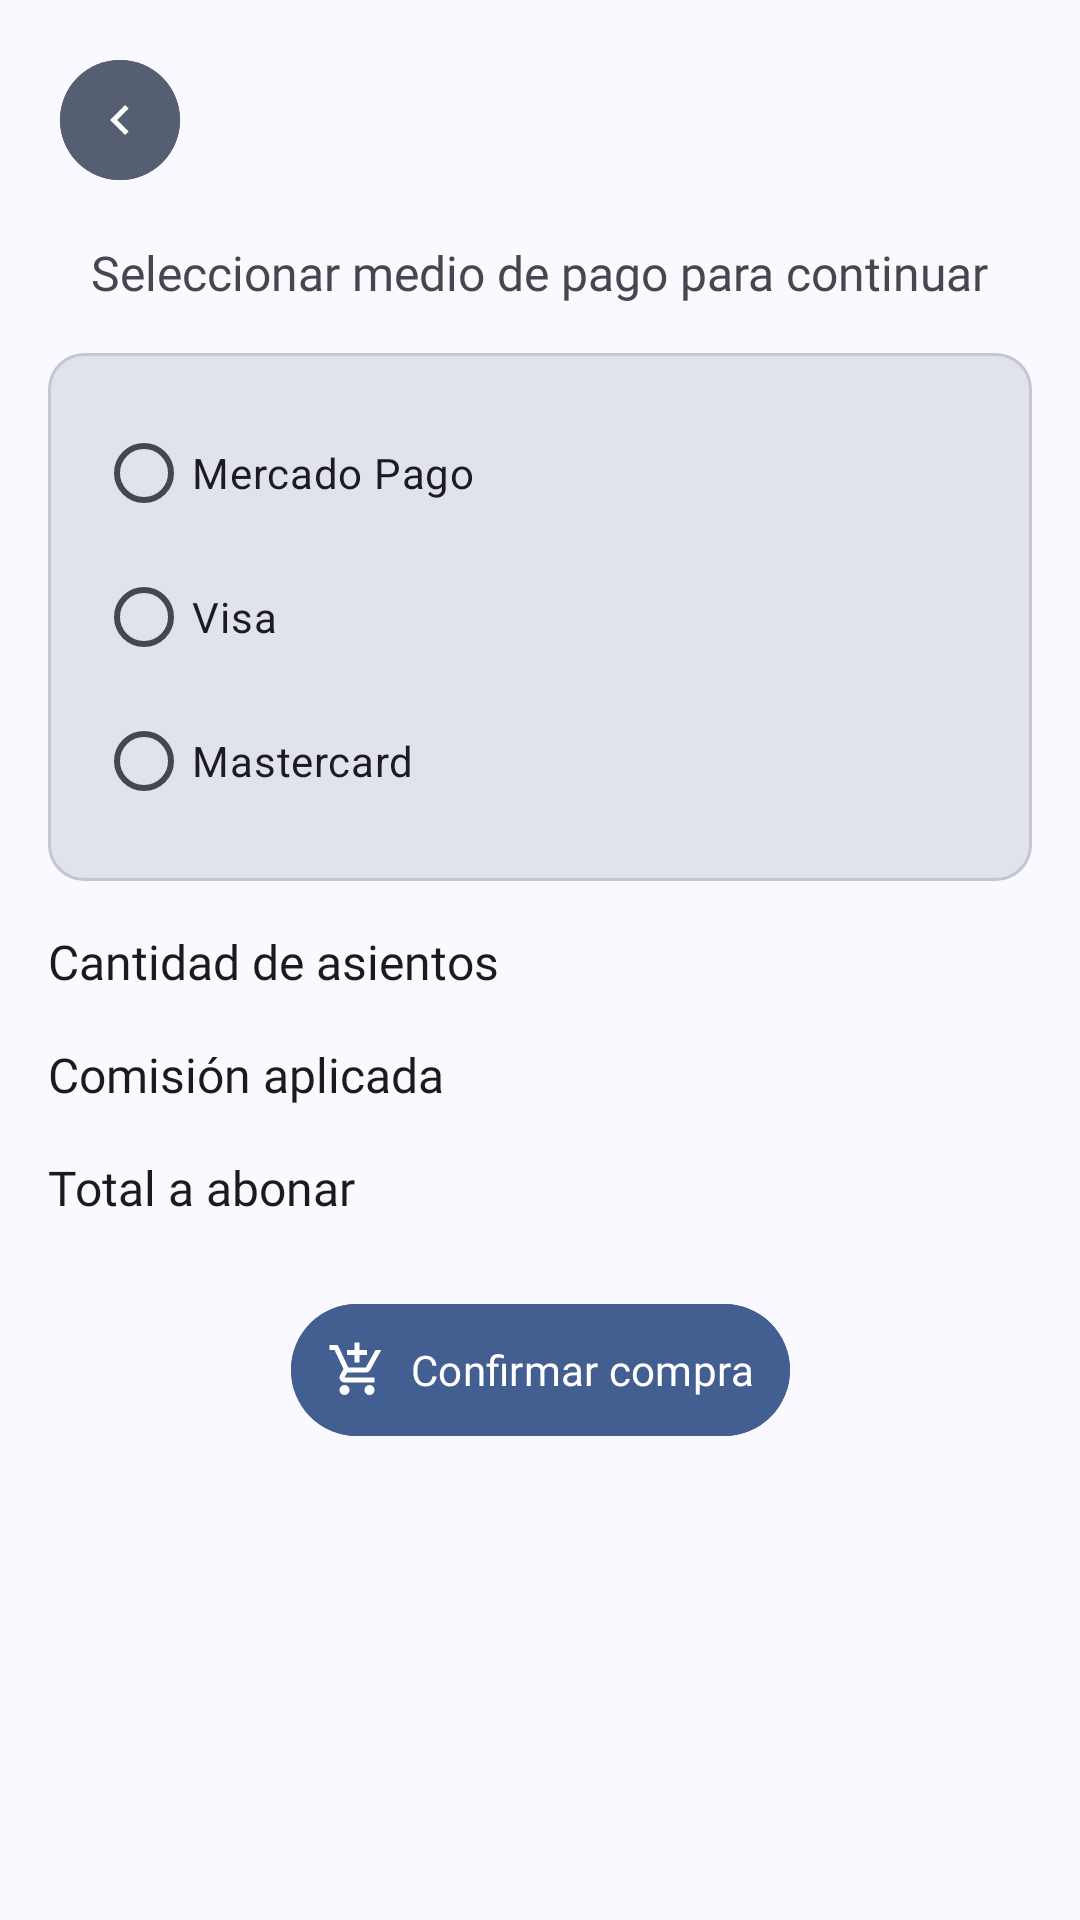

Named icons in this screenshot (1080w x 1920h) and their bounding boxes, (x1, y1, x2, y2):
chevron backward: (60, 60, 180, 180)
